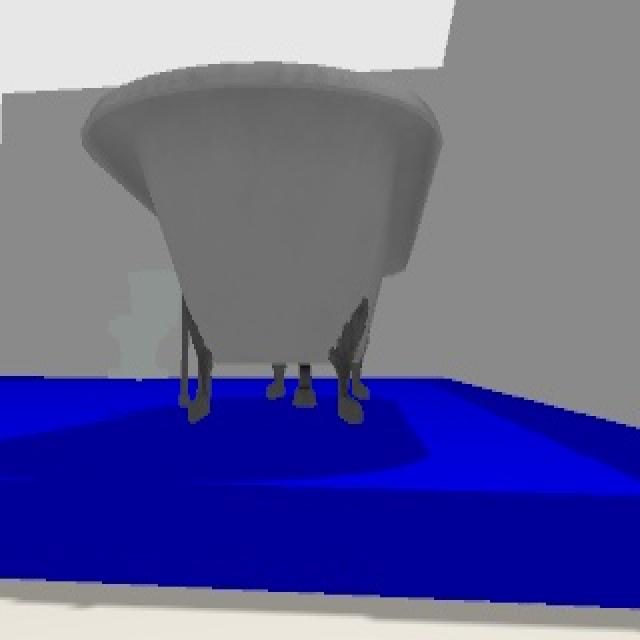bathtub: (80, 61, 448, 424)
